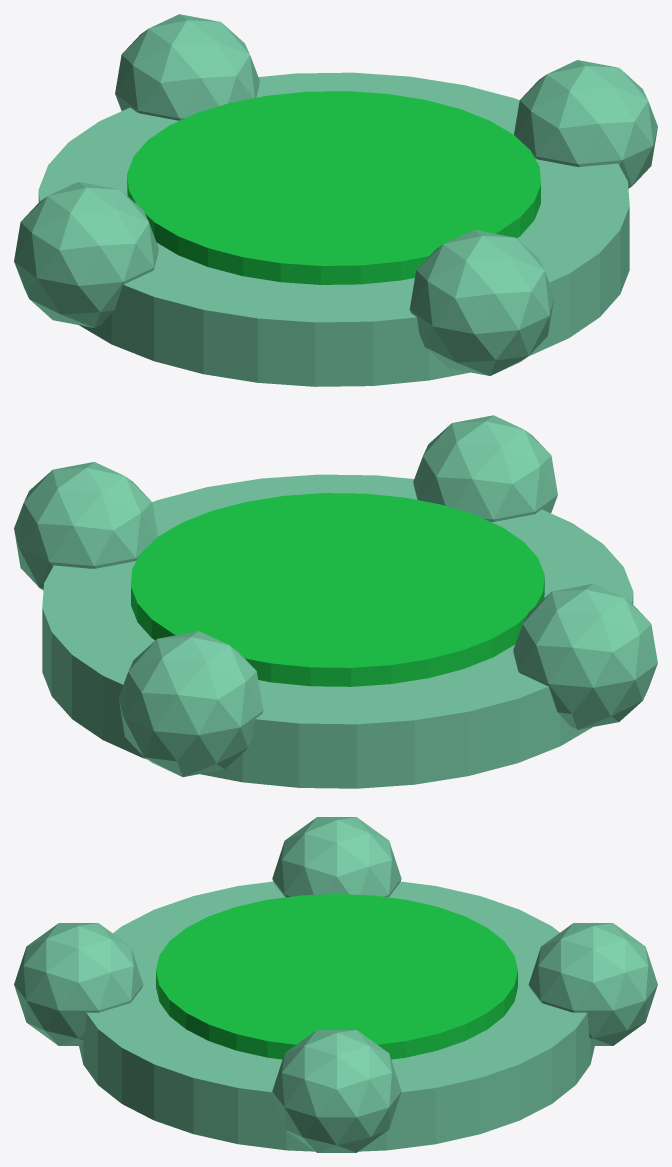
Rendered from machine.obj.
The picture shows the model from 3 angles, top to bottom: view 1: azimuth 30°, elevation 25°; view 2: azimuth 150°, elevation 25°; view 3: azimuth 270°, elevation 25°; orthographic projection. The views are drawn at different scales.
Parts seen in each view (by area): view 1: Cylinder, Cylinder.001; view 2: Cylinder, Cylinder.001; view 3: Cylinder, Cylinder.001.
Boxes of the visible parts, x1,y1,x2,y2 form: Cylinder: (14,14,657,386); Cylinder.001: (127,91,540,284); Cylinder: (14,415,657,788); Cylinder.001: (131,493,544,686); Cylinder: (14,817,657,1152); Cylinder.001: (156,894,517,1059).
Size of the model in its own units: 4.84 by 1 by 4.98.
